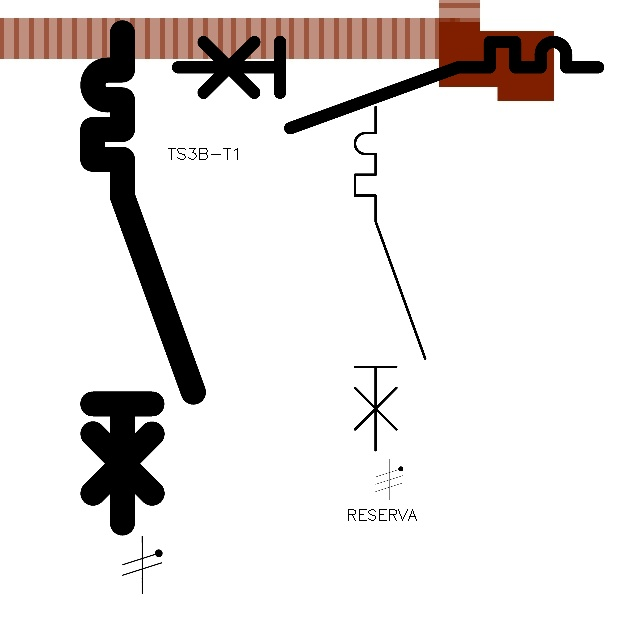interruptor_termomagnetico: (80, 20, 206, 536), (167, 31, 609, 139), (346, 98, 434, 459)
